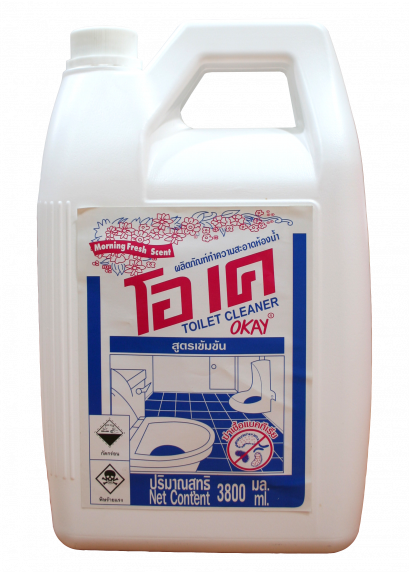Cleaning_solution: (34, 12, 376, 560)
